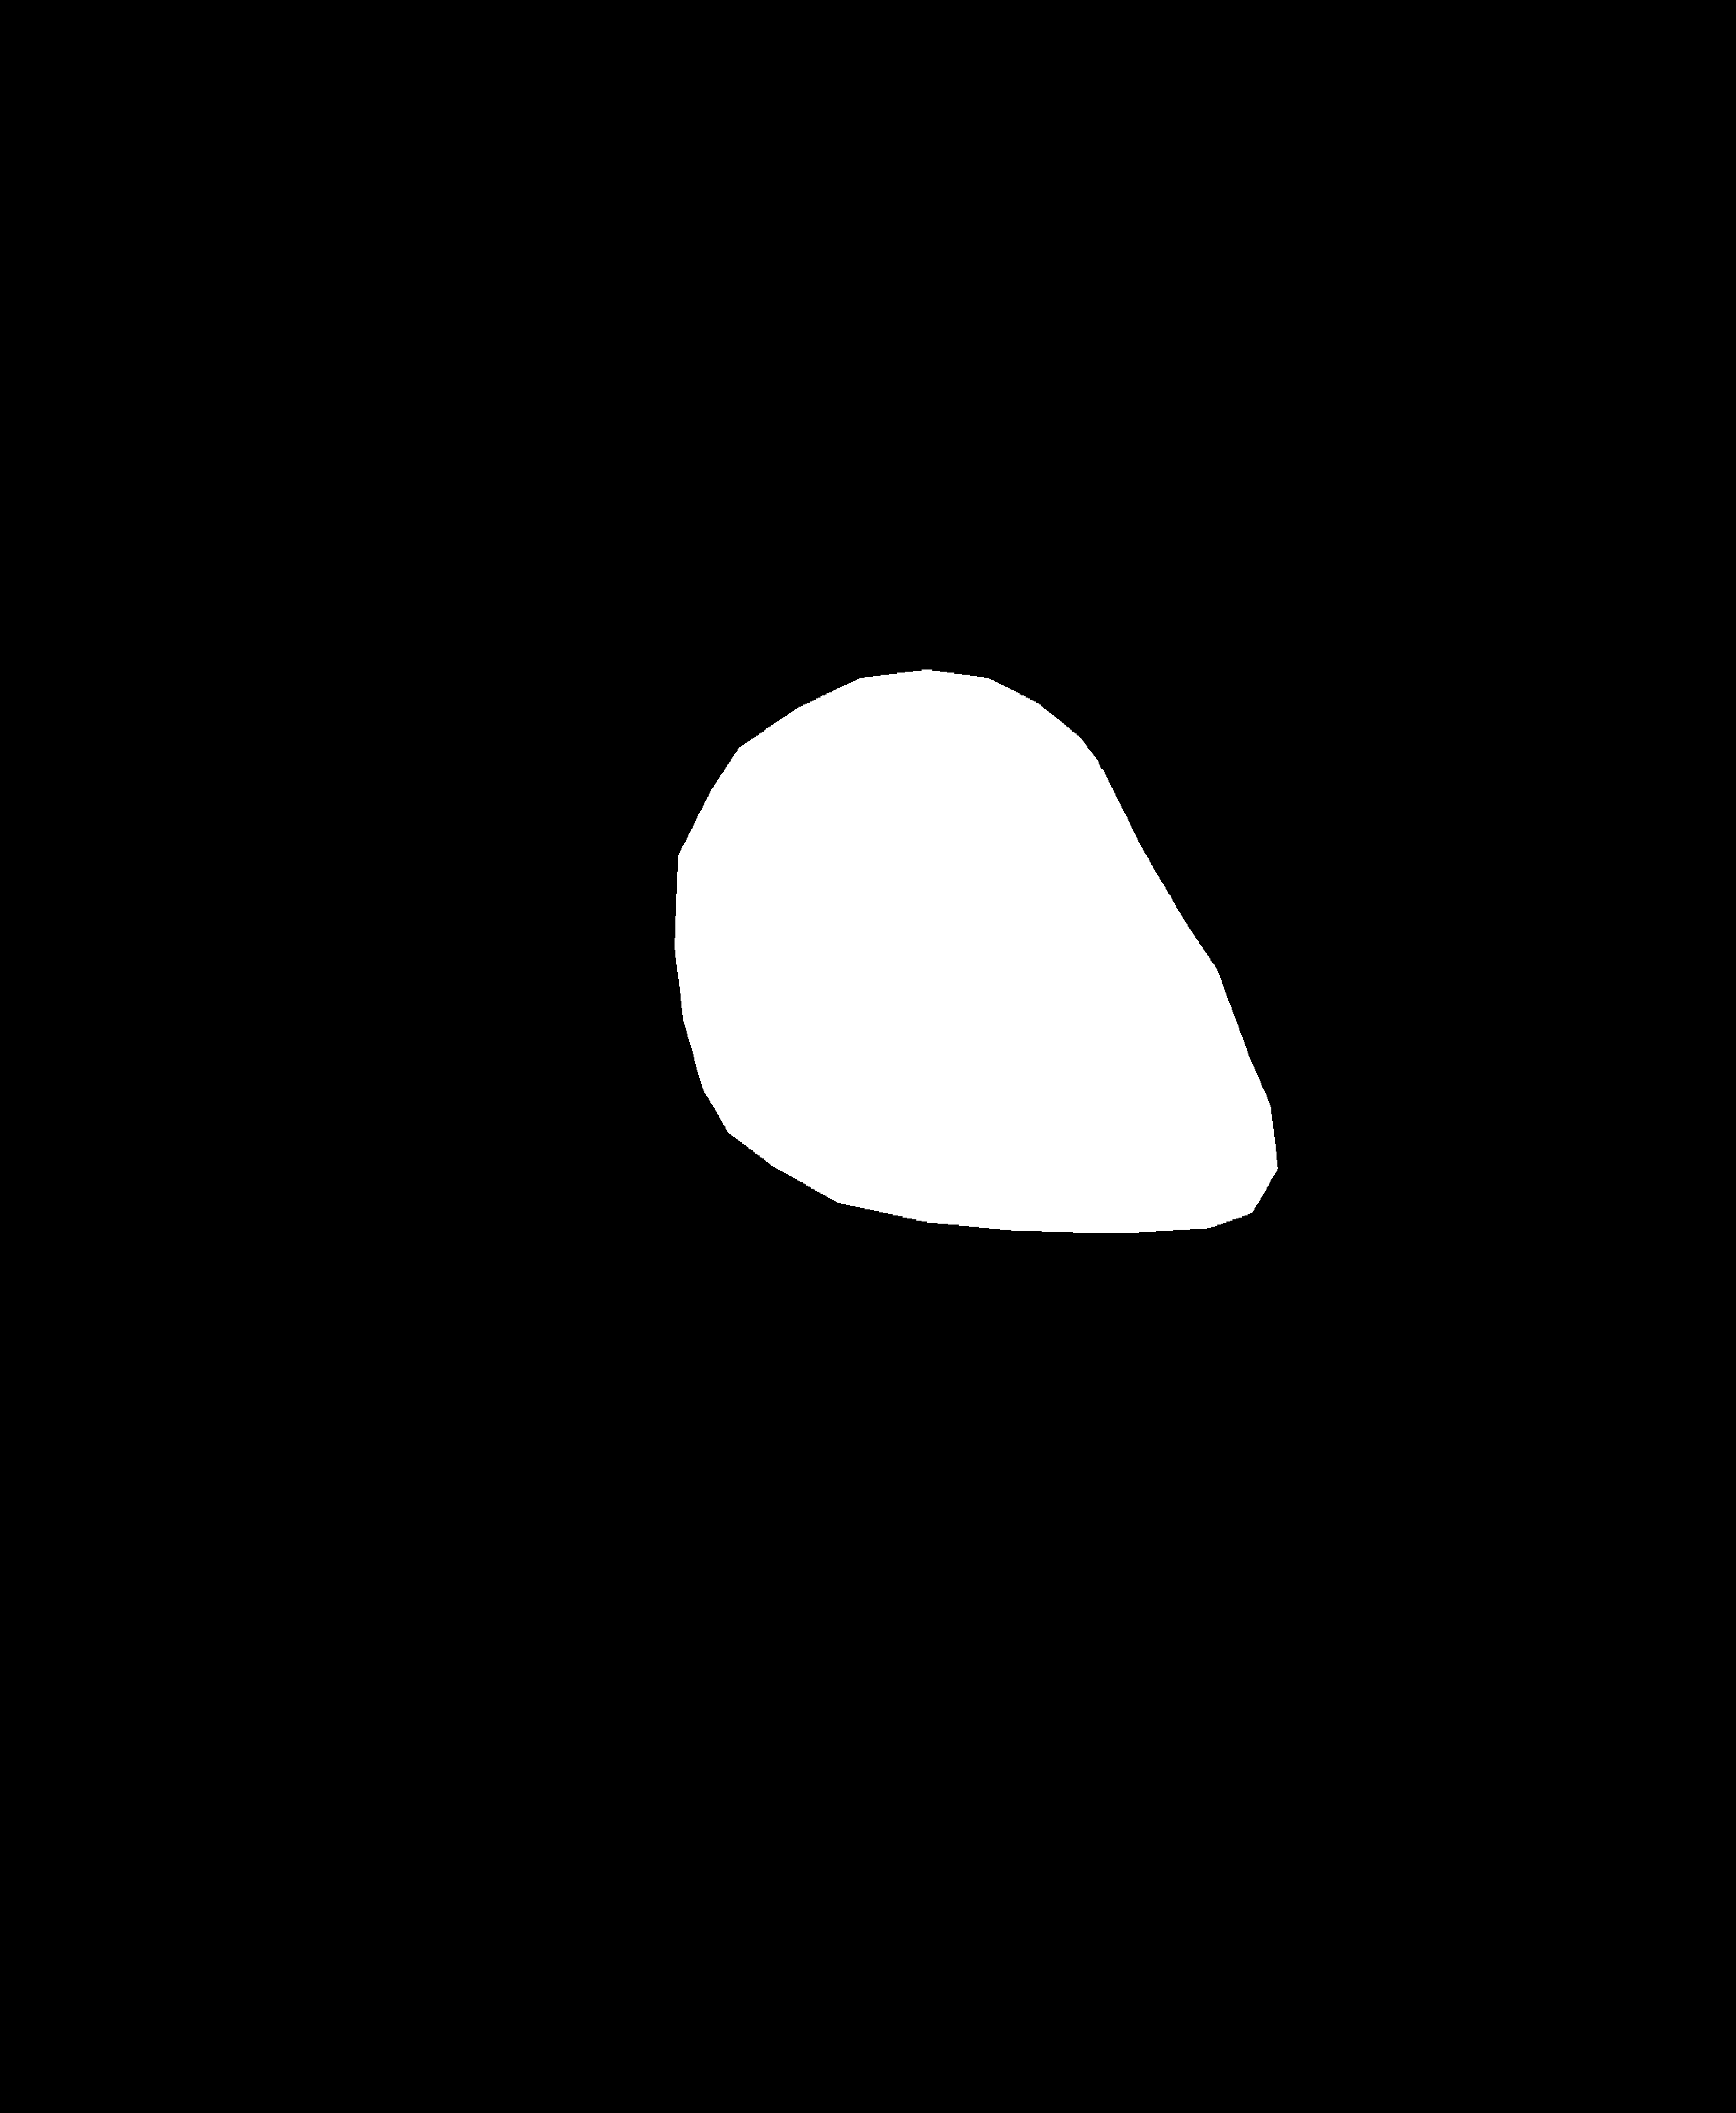heart: (678, 756, 1271, 1309)
left_lung: (200, 114, 806, 1427)
right_lung: (969, 102, 1529, 1406)
